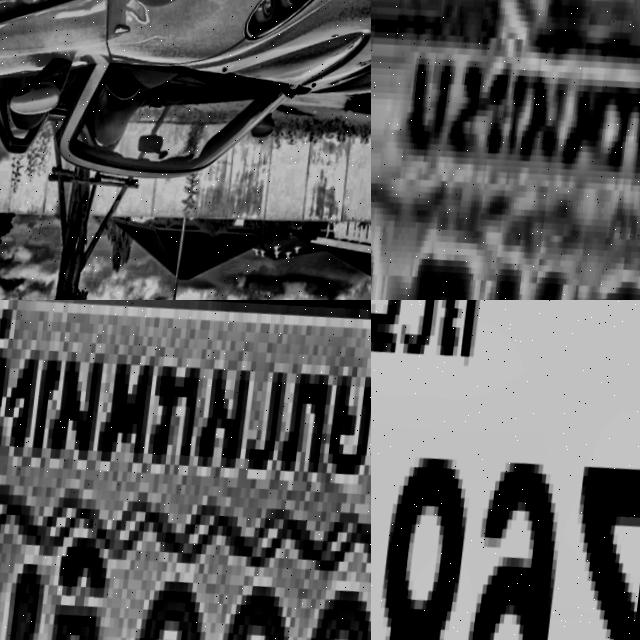license-plate: (0, 300, 371, 640), (371, 300, 640, 640), (371, 0, 640, 300)
